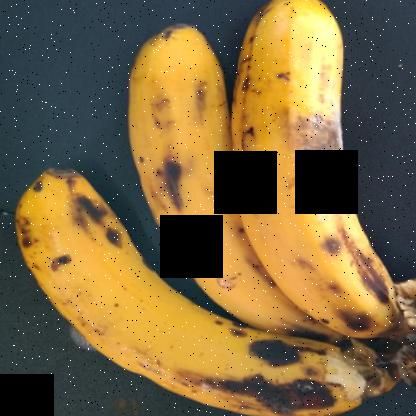overripe: (11, 160, 352, 415), (115, 18, 309, 333), (246, 0, 384, 335)
